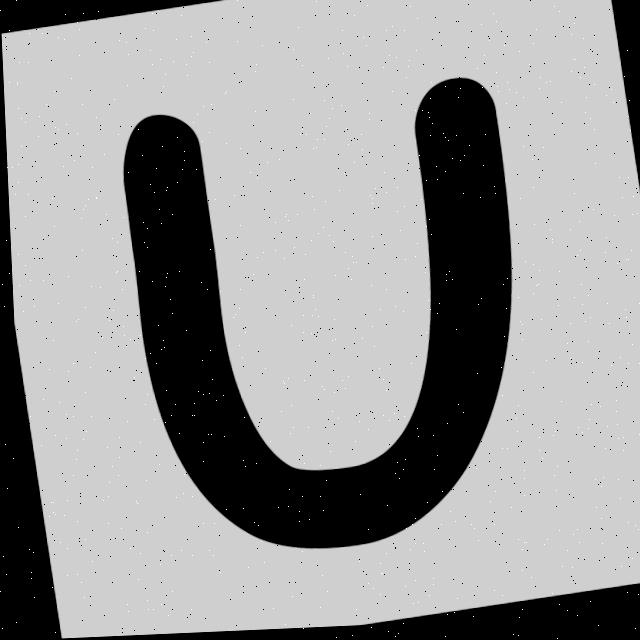U: (122, 82, 509, 550)
